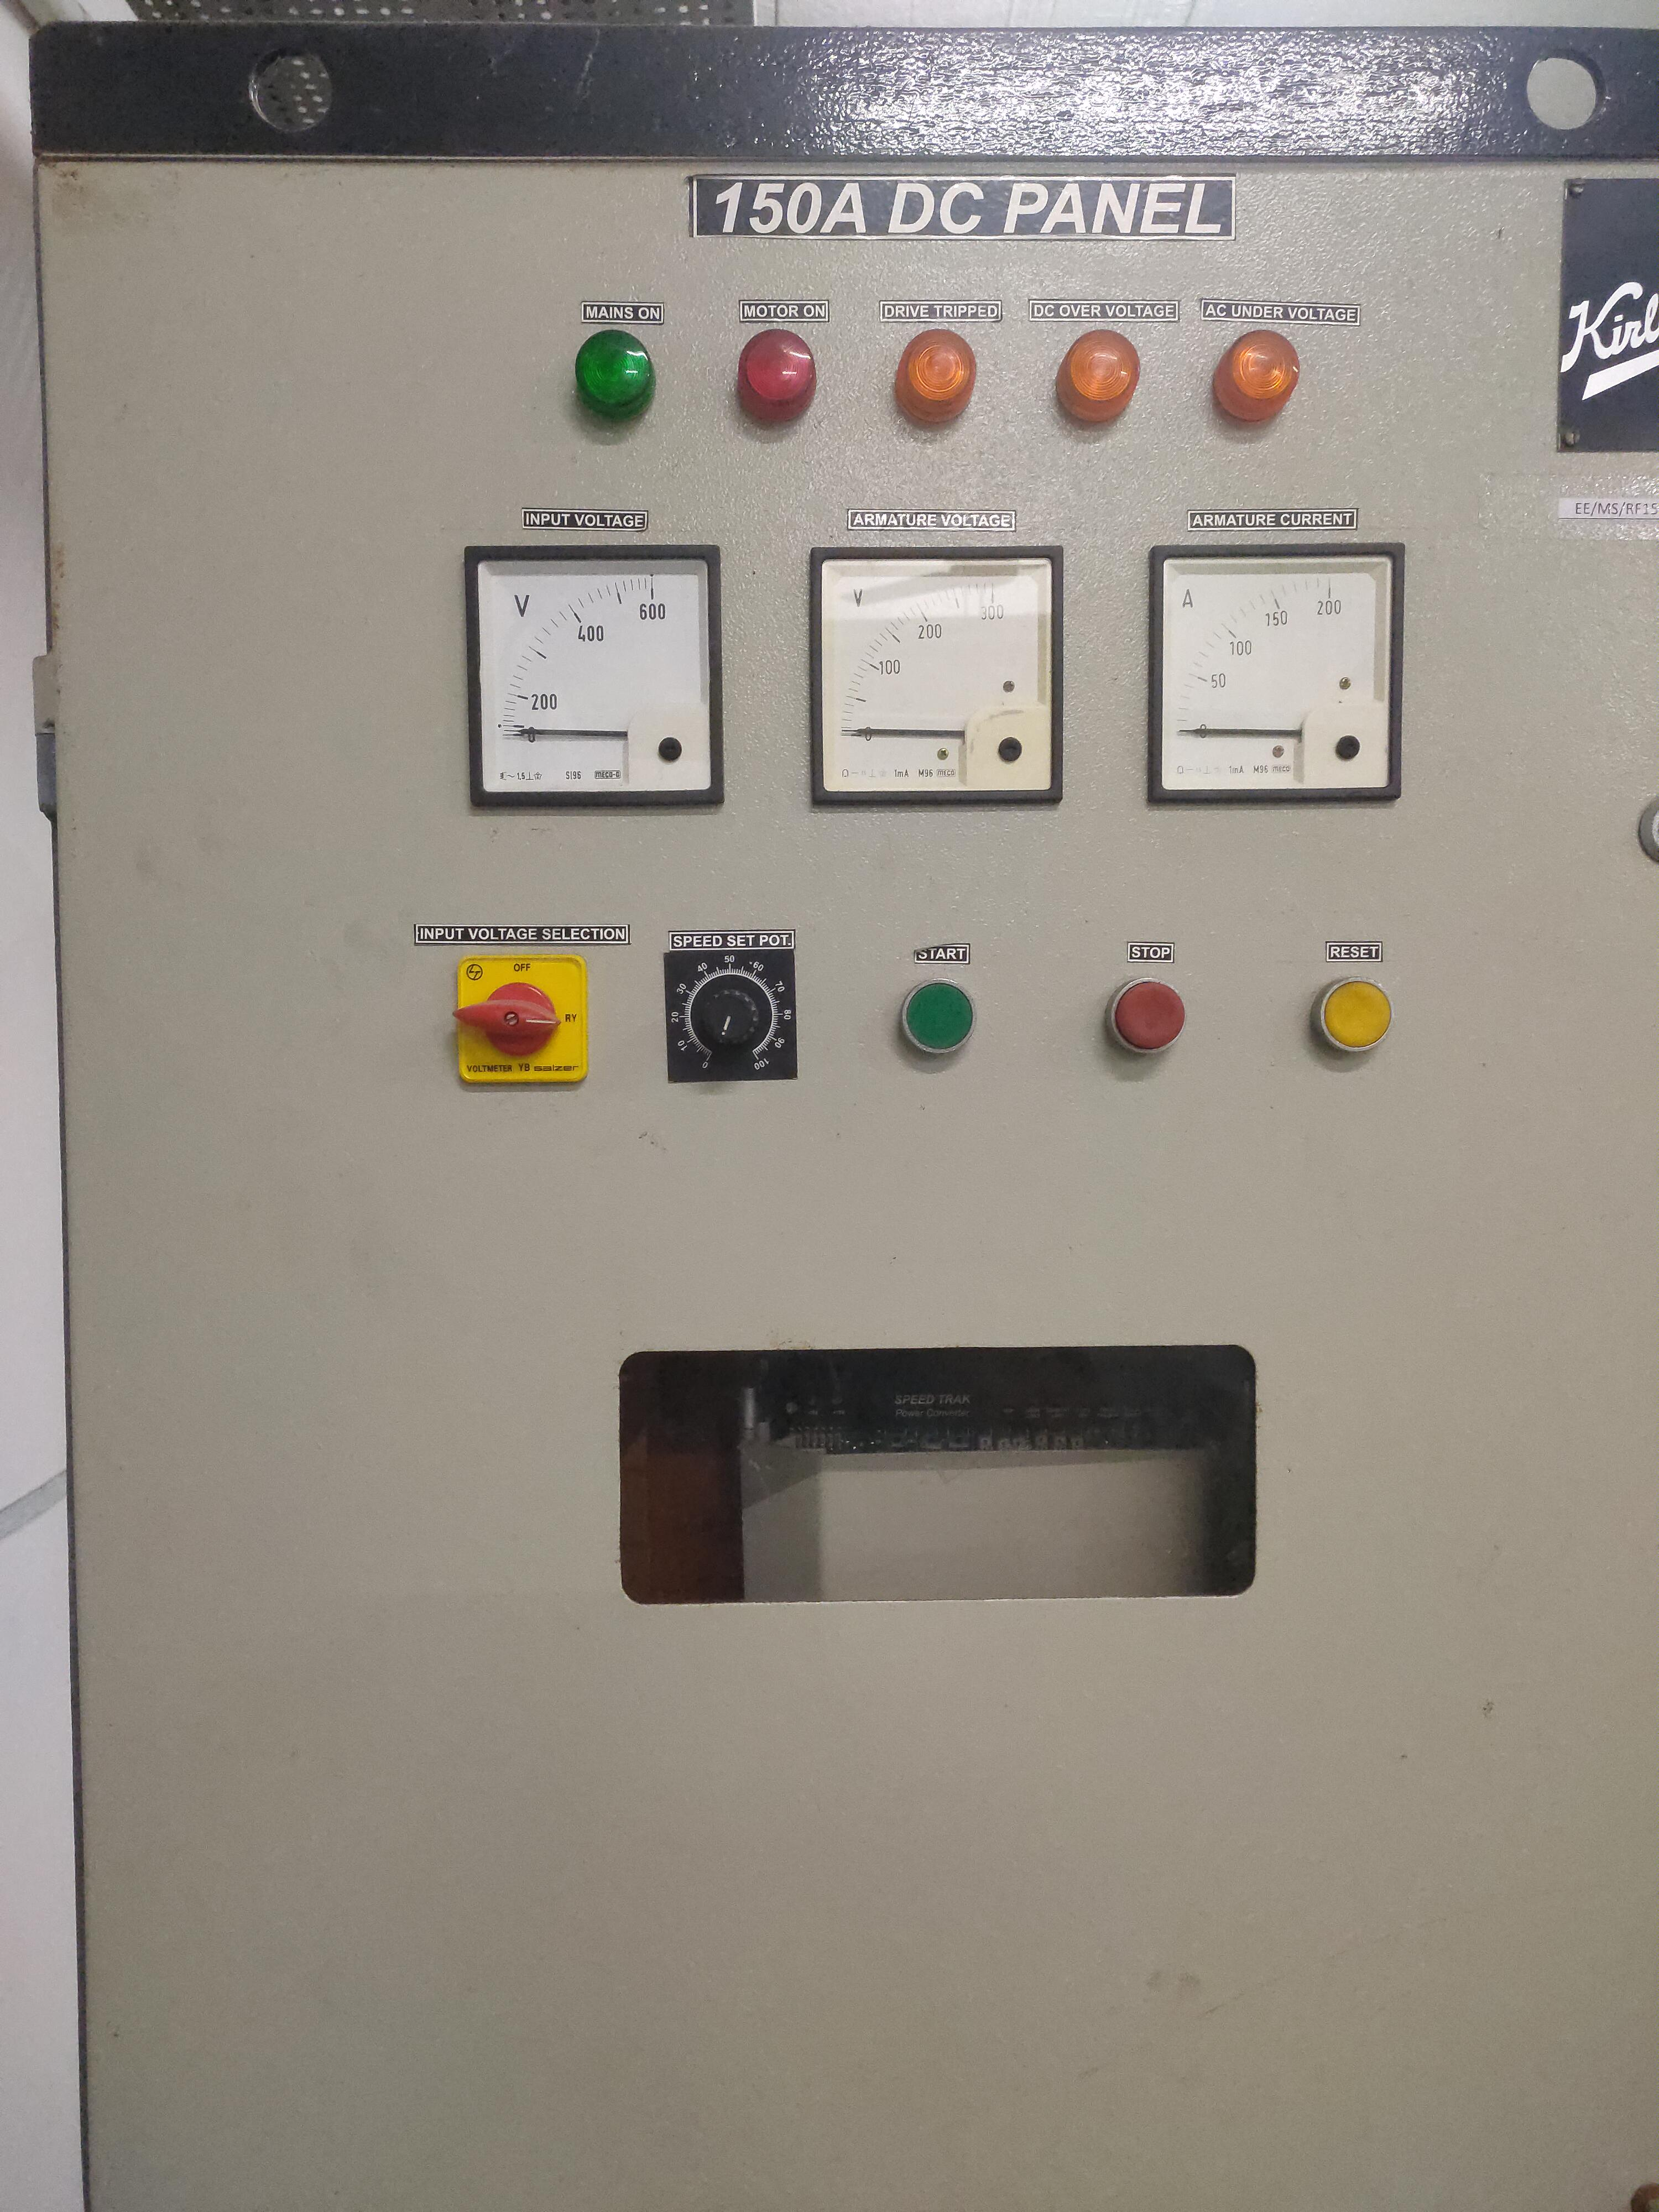Light Indications: (495, 282, 1331, 472)
